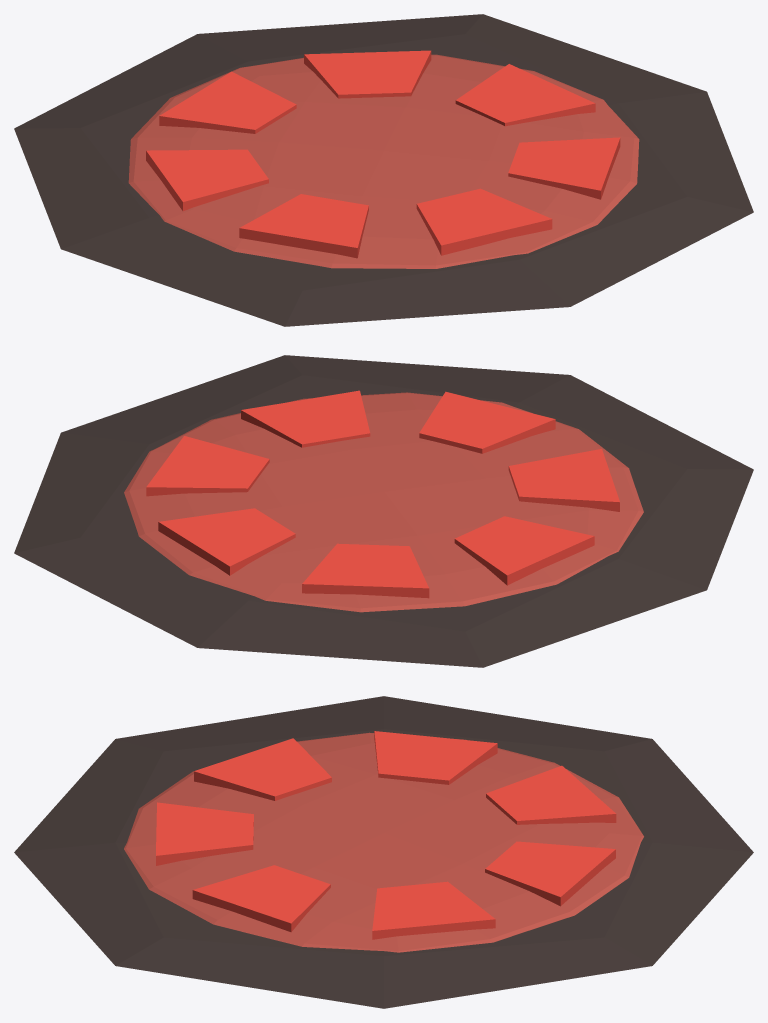
Rendered from Dispenser.glb.
3 renders of one model, top to bottom at view 1: azimuth 30°, elevation 25°; view 2: azimuth 150°, elevation 25°; view 3: azimuth 270°, elevation 25°, orthographic.
Visible parts, largest first — view 1: Cube.001, Cube.002, Cube; view 2: Cube.001, Cube.002, Cube; view 3: Cube.001, Cube.002, Cube.
Boxes of the visible parts, x1,y1,x2,y2 form: Cube.001: (14,14,753,326); Cube.002: (128,53,639,268); Cube: (146,50,620,258); Cube.001: (14,355,753,667); Cube.002: (124,392,643,612); Cube: (146,390,619,598); Cube.001: (14,696,753,1008); Cube.002: (124,732,643,952); Cube: (156,731,616,939).
Bounding box in the file's own units: 6.61 × 0.3539 × 6.61.
